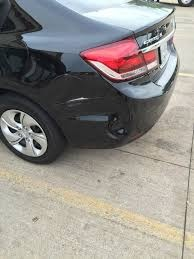Dent: (101, 104, 133, 143)
Smashed: (57, 95, 96, 108)
